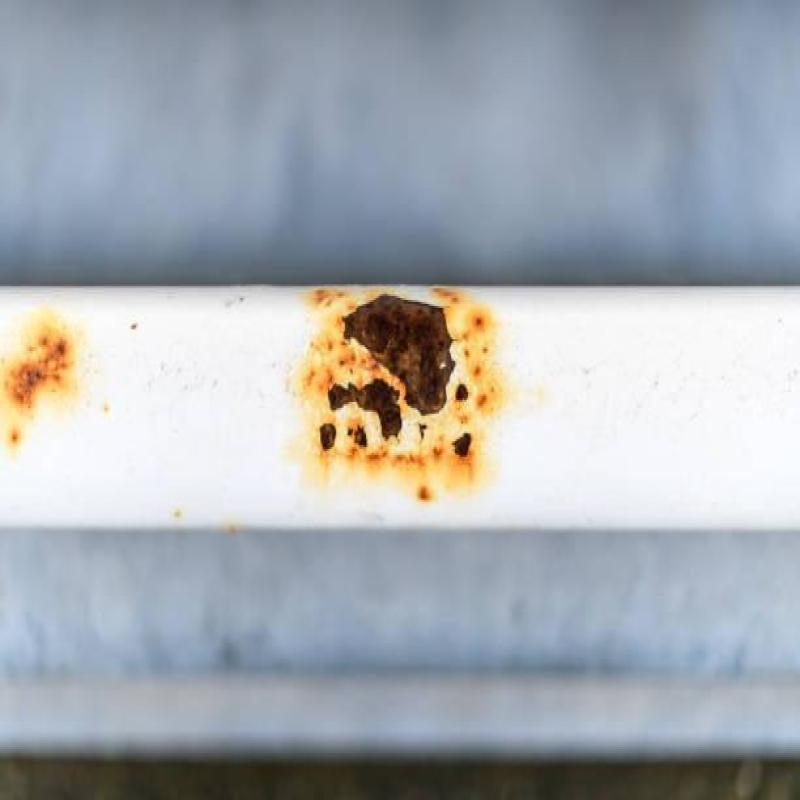corrosion: (320, 296, 491, 469)
